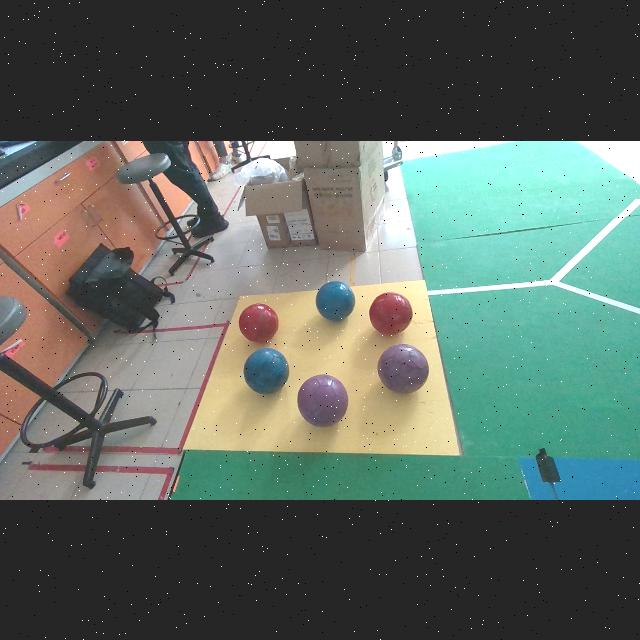B: (243, 347, 289, 393), (316, 280, 355, 321)
P: (298, 374, 349, 426), (378, 344, 429, 393)
R: (369, 292, 412, 335), (238, 303, 279, 342)
